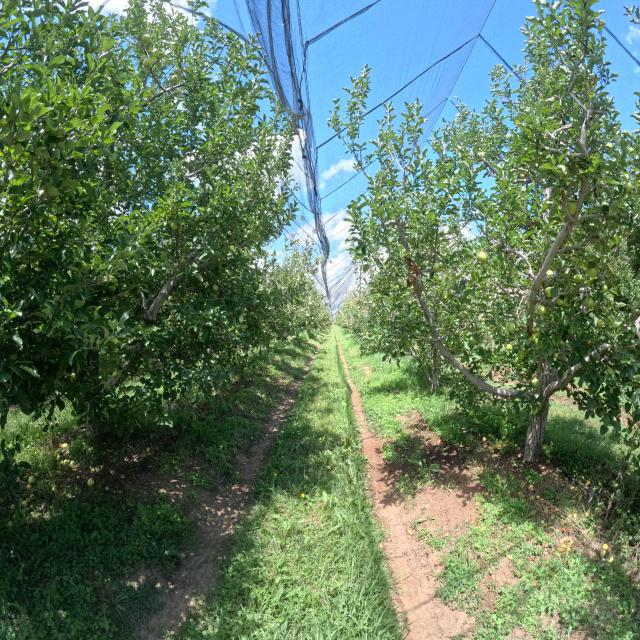-FireBlight-: (403, 254, 424, 292)
